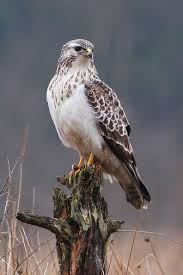nontarget: (42, 30, 161, 220)
